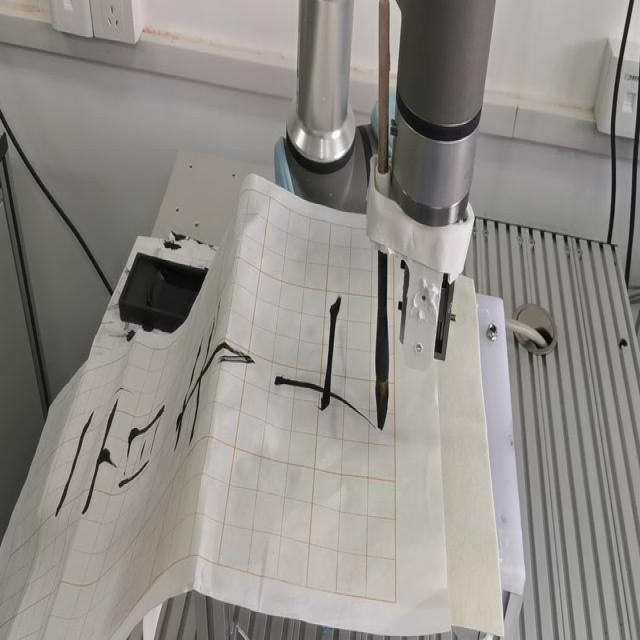head: (372, 377, 390, 433)
inkstone: (120, 251, 210, 333)
writing-brush: (371, 0, 399, 433)
